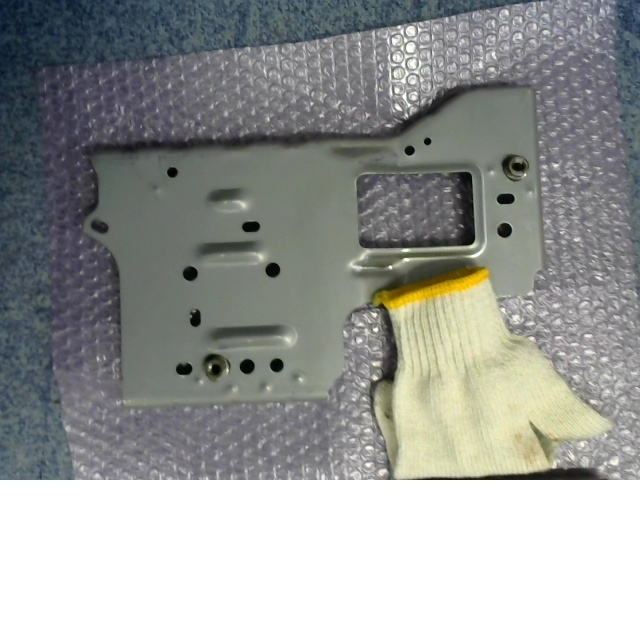dog: (501, 154, 529, 182), (203, 353, 229, 382)
